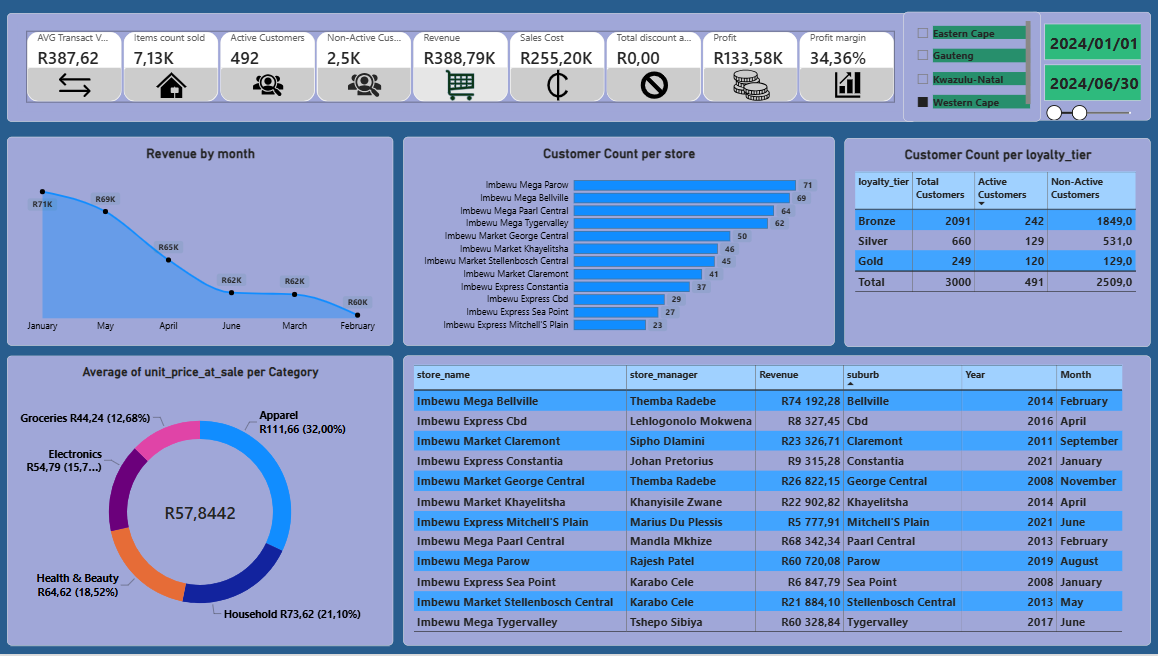

The page's visual inventory and layout, read from the dashboard file:
{"tool":"powerbi","page":{"name":"Page 1","canvas":[1920,1080],"ordinal":0},"visuals":[{"type":"cardVisual","fields":{"Data":["_Measures.AVG Transaction Value","_Measures.Items count sold","_Measures.Customer Count","_Measures.Non-Active Customers","_Measures.Revenue","_Measures.Sales Cost","_Measures.Total discount applied","_Measures.Profit","_Measures.Profit margin"]},"box":[15.9,25,1496.4,179.1],"z":0},{"type":"slicer","fields":{"Values":["transactions.transaction_date Hierarchy.transaction_date"]},"box":[1700.2,22.6,199.7,179.1],"z":1},{"type":"donutChart","title":"Average of unit_price_at_sale per Category","fields":{"Category":["products.category"],"Y":["Avg(products.unit_price)"]},"box":[16.5,588.7,636,477.5],"z":2},{"type":"slicer","fields":{"Values":["stores.province"]},"box":[1492.3,22.6,226.4,181.1],"z":3},{"type":"tableEx","fields":{"Values":["stores.store_name","stores.store_manager","_Measures.Revenue","stores.suburb","stores.opened_date.Variation.Date Hierarchy.Year","stores.opened_date.Variation.Date Hierarchy.Month"]},"box":[669,588.7,1230.9,477.5],"z":4},{"type":"areaChart","title":"Revenue by month","fields":{"Category":["transactions.Month Name"],"Y":["_Measures.Revenue"]},"box":[16.5,228.5,636,343.7],"z":5},{"type":"barChart","title":"Customer Count per store","fields":{"Category":["stores.store_name"],"Y":["_Measures.Customer Count"]},"box":[669,228.5,710.1,343.7],"z":6},{"type":"tableEx","title":"Customer Count per loyalty_tier","fields":{"Values":["customers.loyalty_tier","_Measures.Total Customers","_Measures.Active Customer Count","_Measures.Non-Active Customers"]},"box":[1395.5,230.5,504.3,343.7],"z":7}]}

Visuals, with their boxes in screenshot pixels (x1, y1, x2, y2), scaled from the page's 1920x1080 canvas onto the 1158x656 screenshot:
cardVisual - _Measures.AVG Transaction Value x _Measures.Items count sold: (10, 15, 912, 124)
slicer - transactions.transaction_date Hierarchy.transaction_date: (1025, 14, 1146, 123)
"Average of unit_price_at_sale per Category" donutChart: (10, 358, 394, 648)
slicer - stores.province: (900, 14, 1037, 124)
tableEx - stores.store_name x stores.store_manager: (403, 358, 1146, 648)
"Revenue by month" areaChart: (10, 139, 394, 348)
"Customer Count per store" barChart: (403, 139, 832, 348)
"Customer Count per loyalty_tier" tableEx: (842, 140, 1146, 349)
